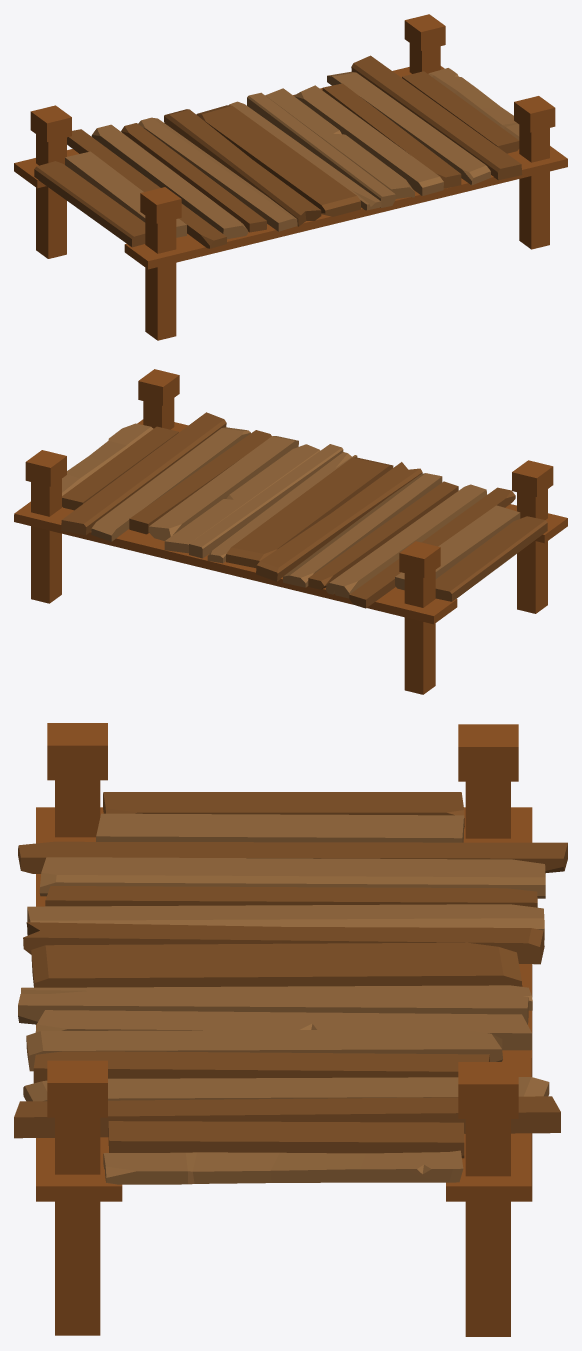
The model's file is fabz_flat_bridge.glb.
The picture shows the model from 3 angles, top to bottom: view 1: azimuth 30°, elevation 25°; view 2: azimuth 150°, elevation 25°; view 3: azimuth 270°, elevation 25°; orthographic projection. The views are drawn at different scales.
Visible parts, largest first — view 1: fabz_flat_bridge; view 2: fabz_flat_bridge; view 3: fabz_flat_bridge.
Boxes of the visible parts, x1=… form: fabz_flat_bridge: x1=14, y1=14, x2=567, y2=340; fabz_flat_bridge: x1=14, y1=369, x2=567, y2=694; fabz_flat_bridge: x1=14, y1=723, x2=567, y2=1336.
Bounding box in the file's own units: 0.96 × 0.3016 × 0.5929.
